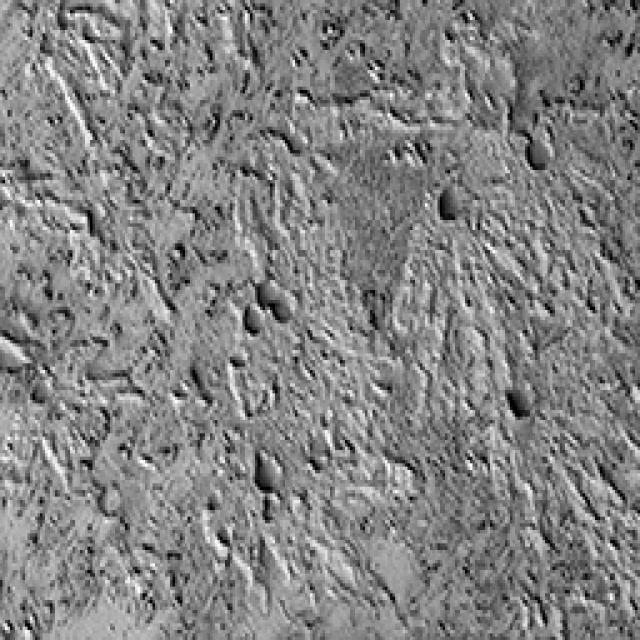Crater: (427, 180, 475, 233), (498, 373, 542, 430), (518, 130, 560, 180)
